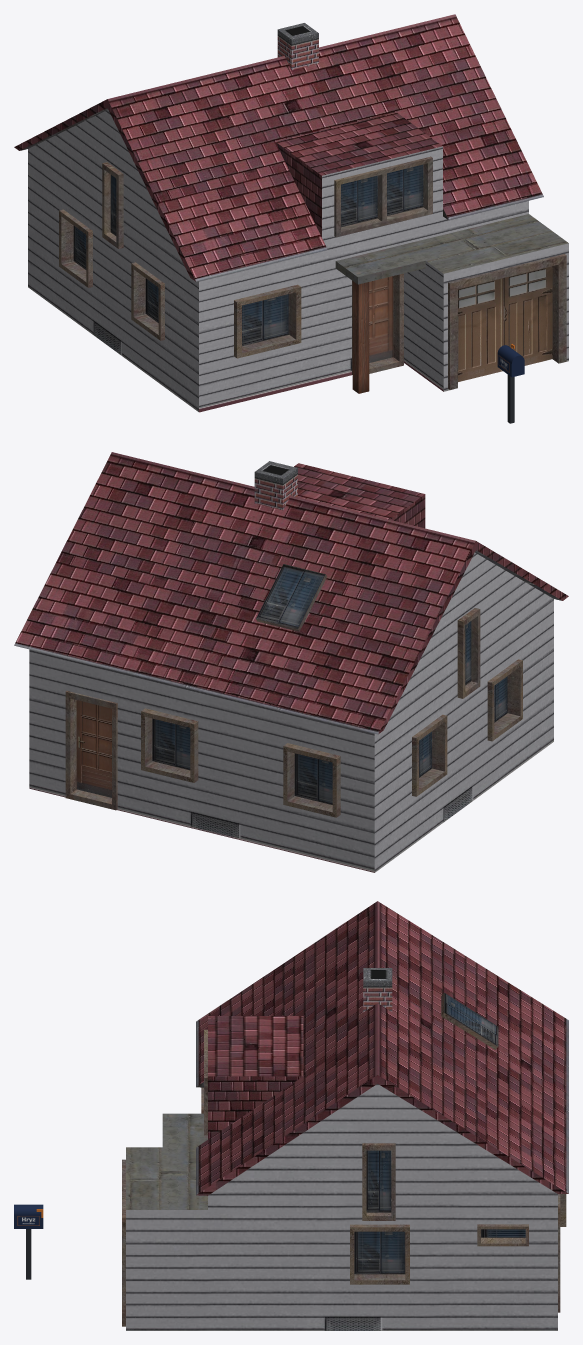
The model's file is casa4-c.glb.
3 renders of one model, top to bottom at view 1: azimuth 30°, elevation 25°; view 2: azimuth 150°, elevation 25°; view 3: azimuth 270°, elevation 25°, orthographic. The views are drawn at different scales.
Visible parts, largest first — view 1: Casa, CaixaCorreio; view 2: Casa; view 3: Casa, CaixaCorreio.
Part boxes in pixels (x1=…): Casa: x1=14, y1=14, x2=568, y2=412; CaixaCorreio: x1=497, y1=344, x2=524, y2=423; Casa: x1=14, y1=452, x2=568, y2=872; Casa: x1=122, y1=901, x2=568, y2=1330; CaixaCorreio: x1=14, y1=1204, x2=43, y2=1279.
Bounding box in the file's own units: 7.04 × 5.35 × 9.51.
Materials: 5 (2 with a texture image).
